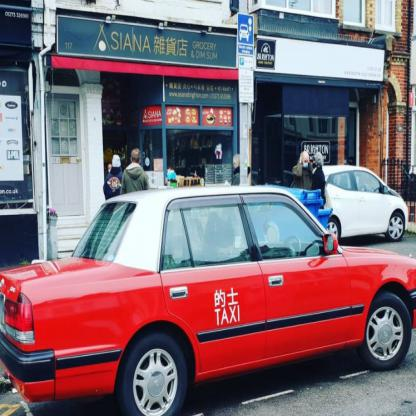taxi: (2, 179, 416, 416)
